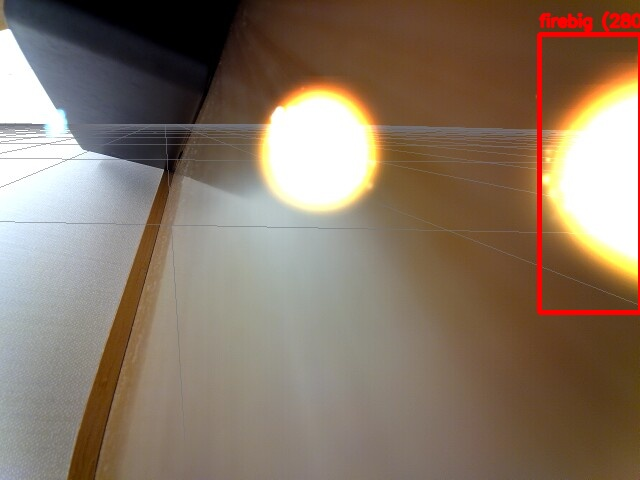firebig: (539, 34, 640, 312)
